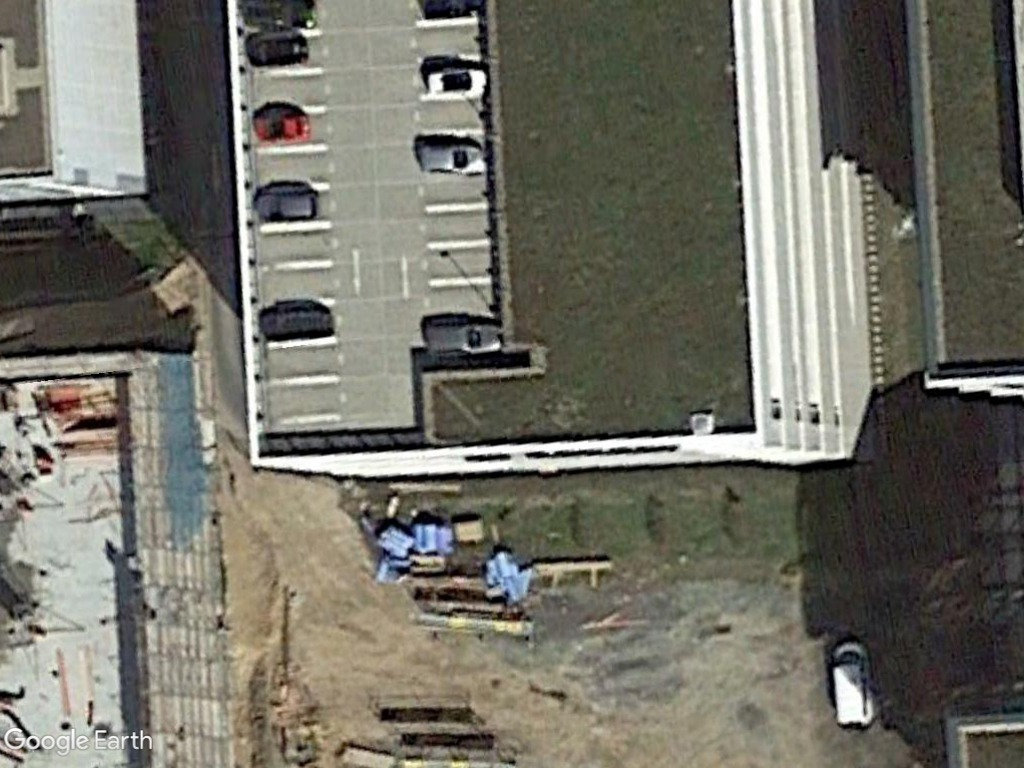car: (413, 134, 495, 180), (415, 58, 493, 100)
van: (822, 632, 879, 732)
